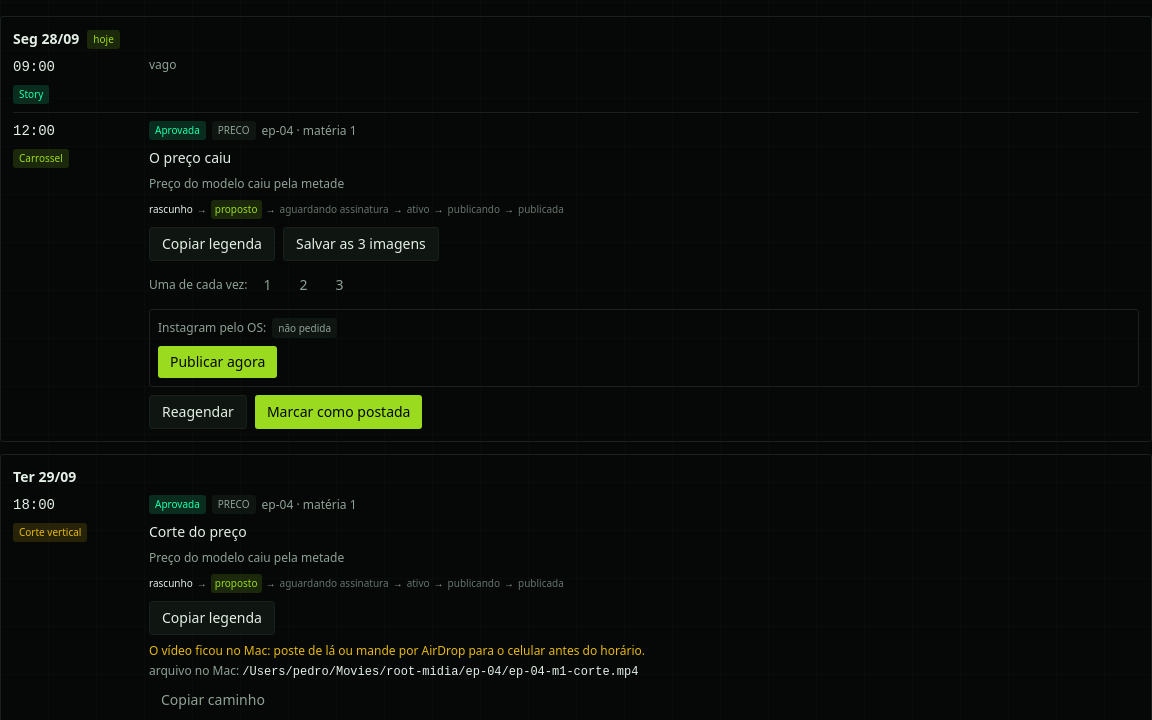
Test: a aba Semana › no celular, as imagens do carrossel vão juntas para a folha de compartilhar; se ela pedir outro toque, os PNG ficam prontos
(page scrolled)
Click the button "Salvar as 3 imagens" at [361, 244], box [283,227,439,261]
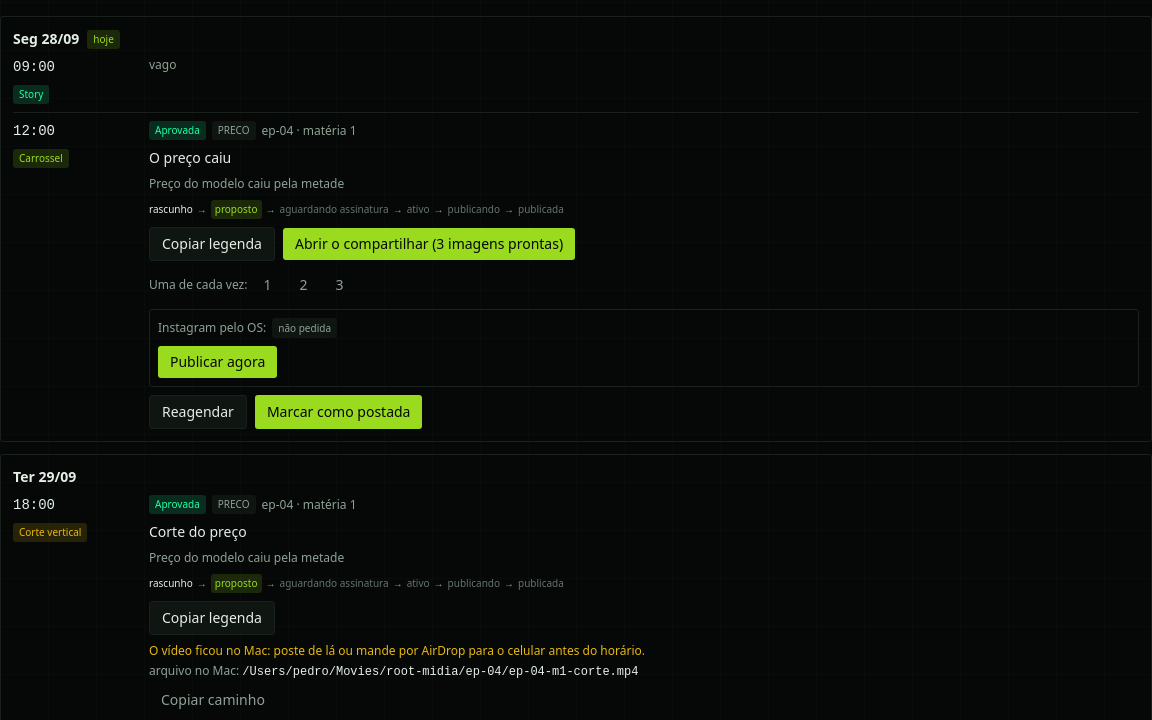
Click the button "Abrir o compartilhar (3 imagens prontas)" at [429, 244], box [283,228,575,260]
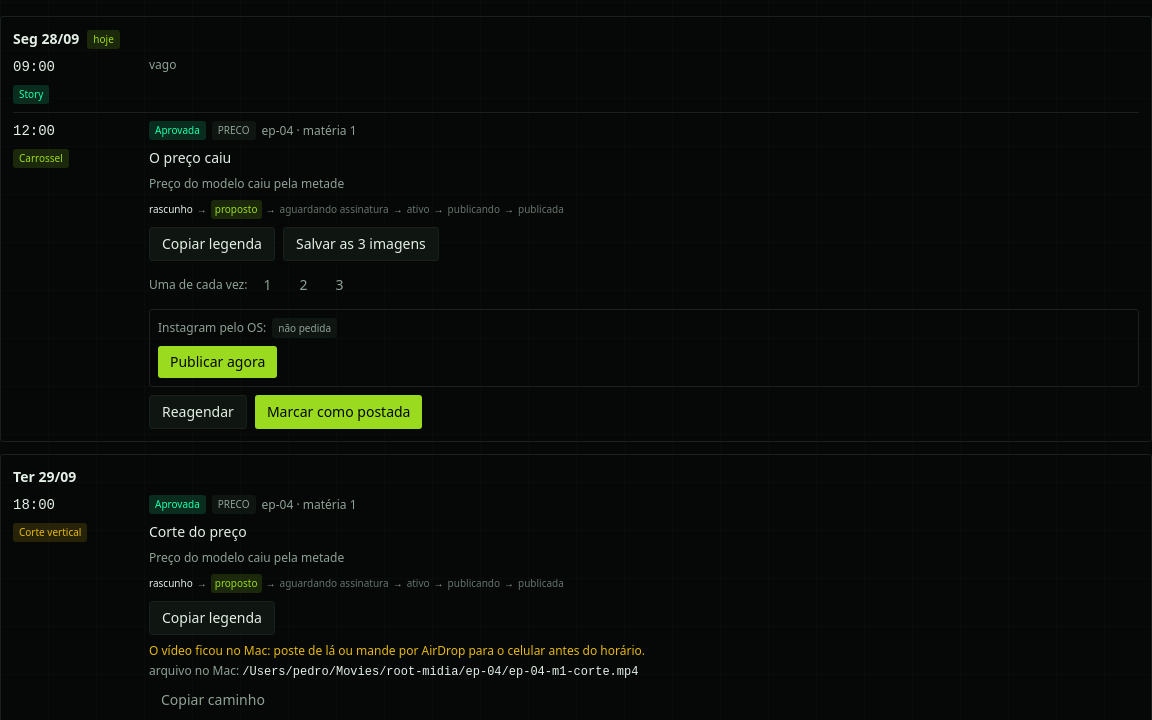
Now the button "Salvar as 3 imagens" is shown, box [283,227,439,261]
